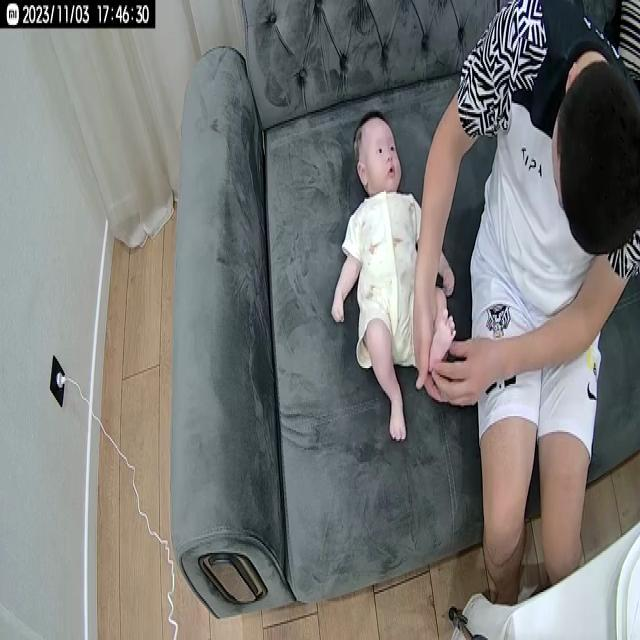baby: (328, 108, 458, 450)
